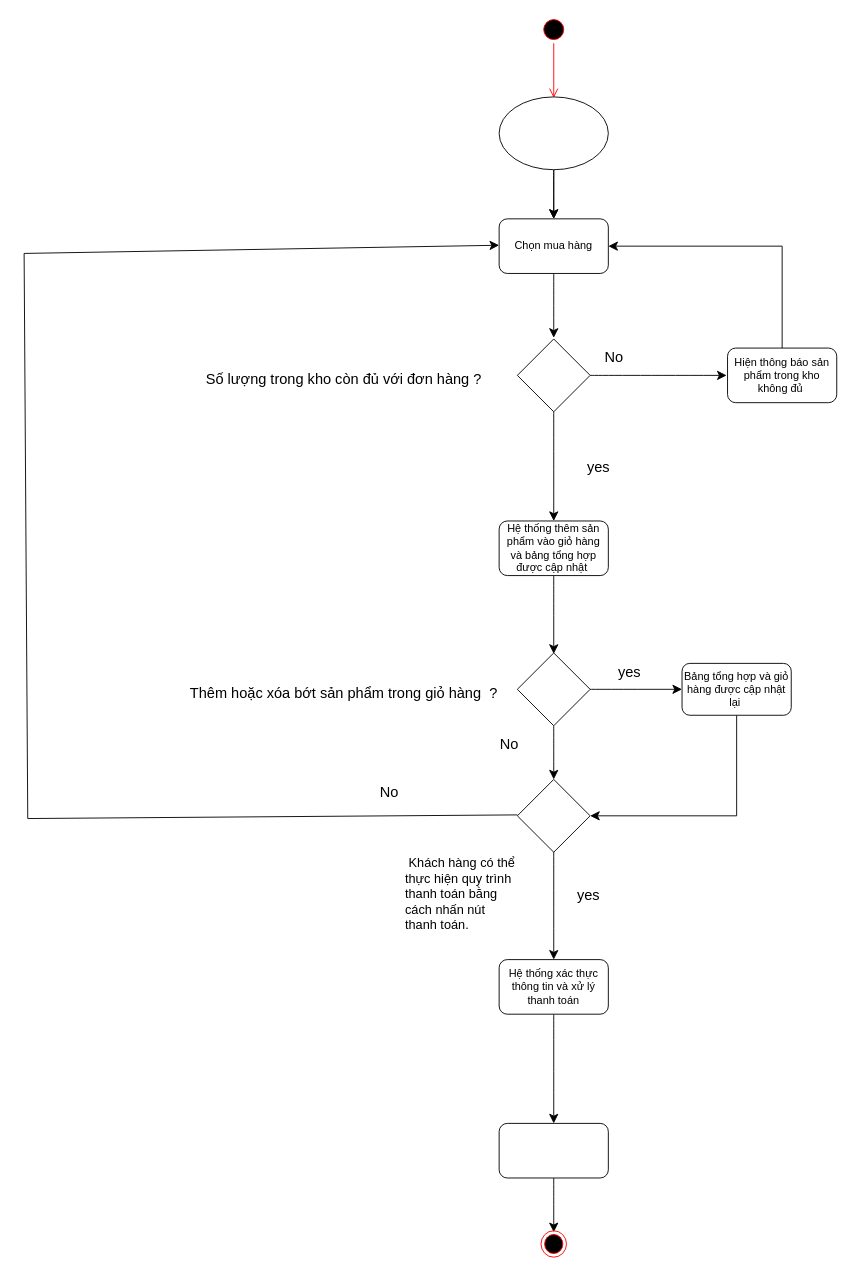
This 853x1273 diagram has some shape labels left out. Here are the shapes that lost their labels. From the top down, the centre of each, then its label:
At point (553, 133): "Đăng nhập vào hệ thống".
At point (553, 1150): "Hệ thống gửi email cho người mua biết chuyện gì đang xảy ra".
